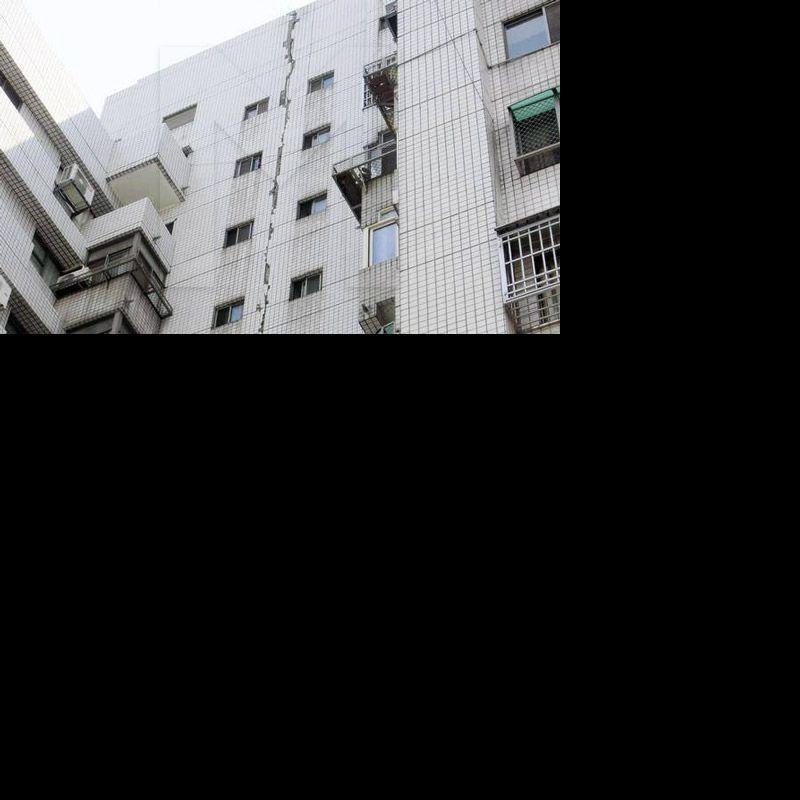crack: (269, 11, 298, 216), (254, 223, 274, 336)
